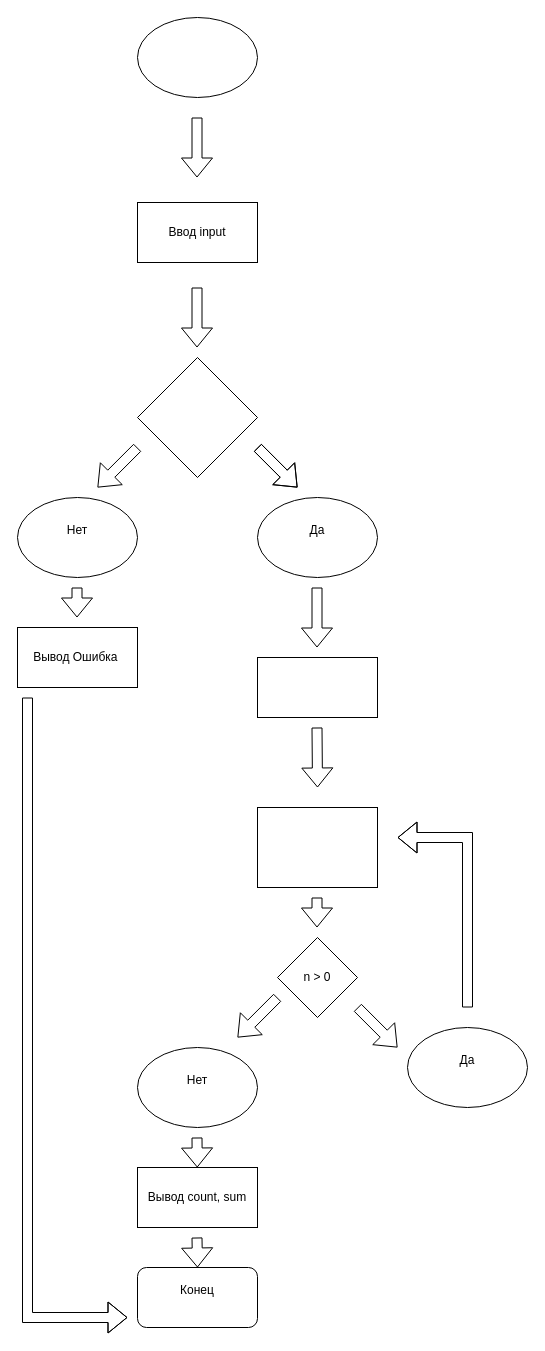
Some shapes in this 545 by 1351 pixel diagram are drawn without their labels. Each missing label, with the centre of its shape:
digit = n % 10 sum = sum + digit count = count + 1 n = n / 10: point (317, 847)
sum = 0 count = 0: point (317, 687)
TryParse(input) && n >= 0: point (197, 417)
Начало: point (197, 57)
